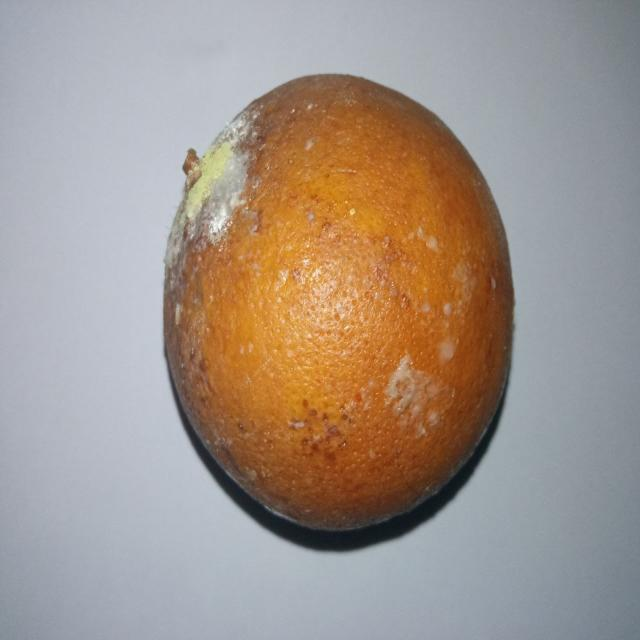rotten_orange: (162, 72, 511, 530)
